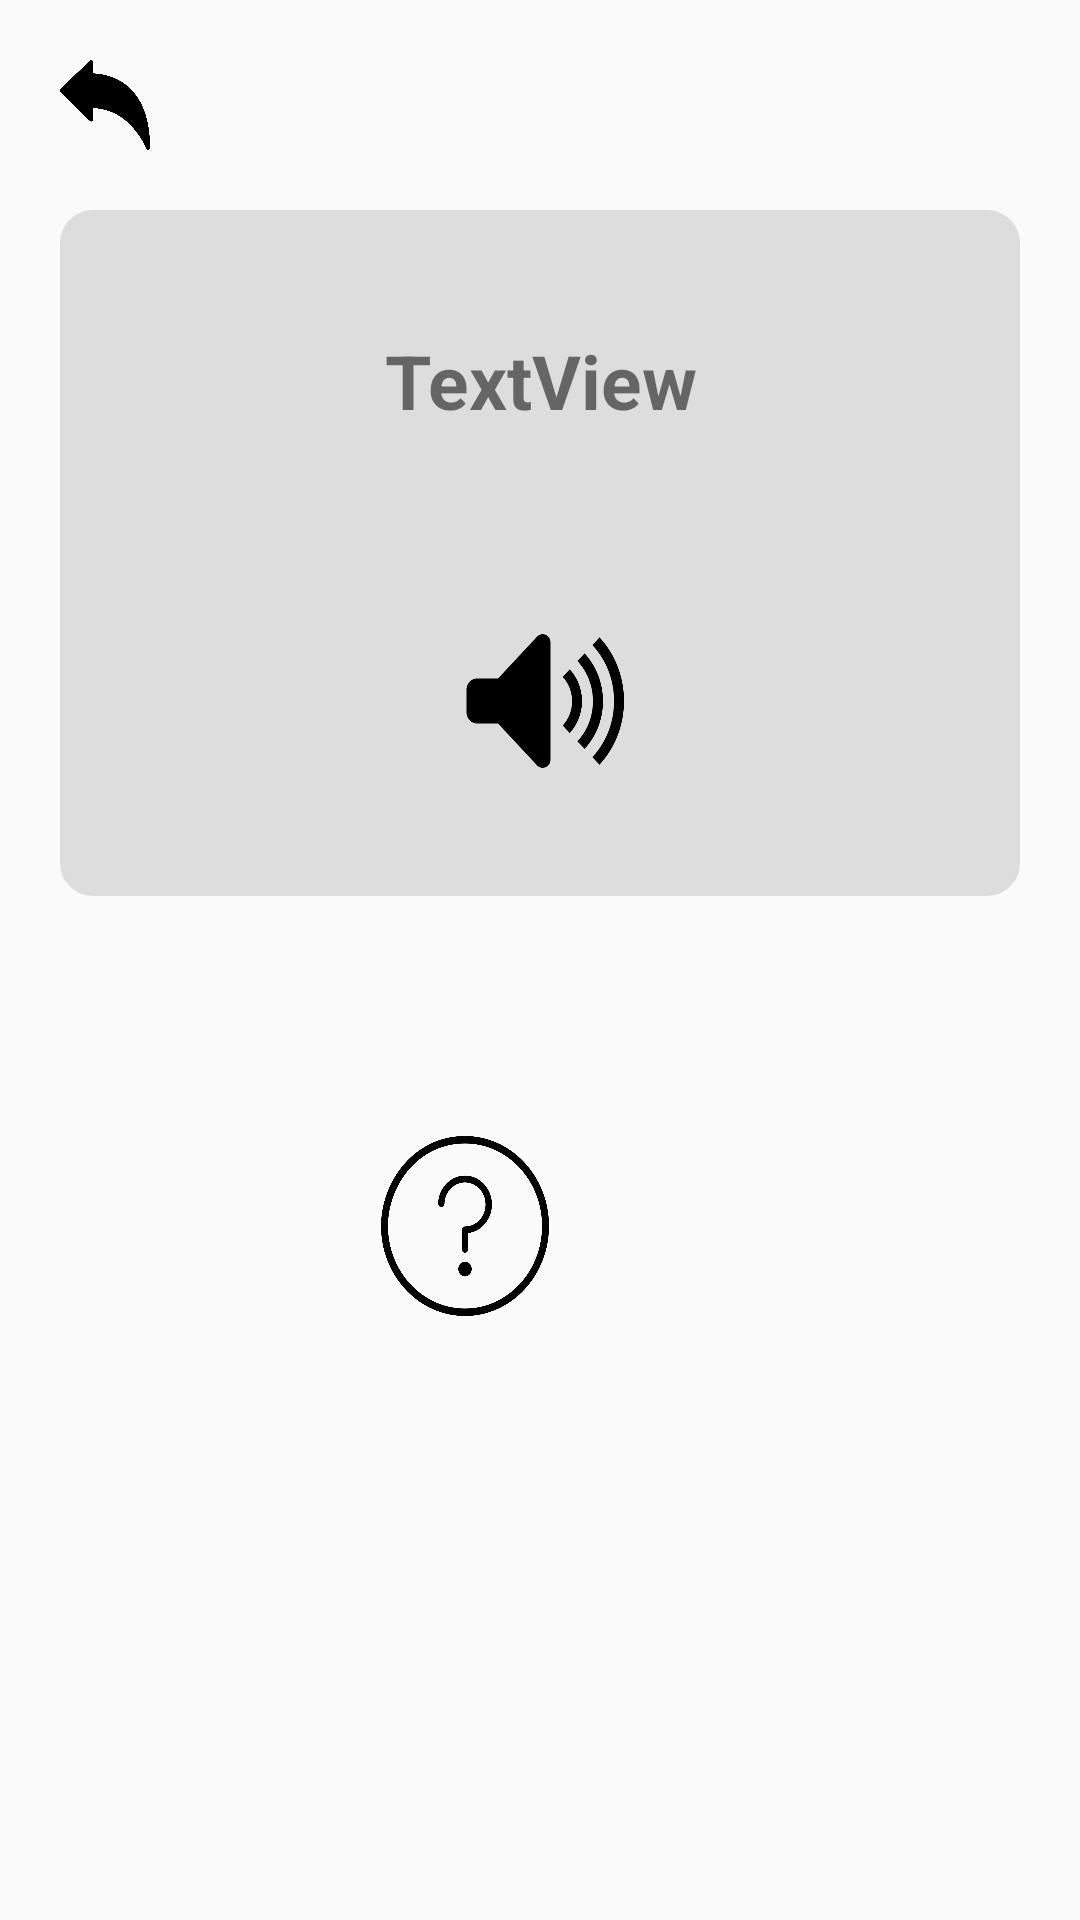

Icons on this 1080×1920 Android screen, each with the point to tap as point (x, y):
back arrow: point (105, 105)
guess: point (465, 1226)
volume: point (545, 701)
